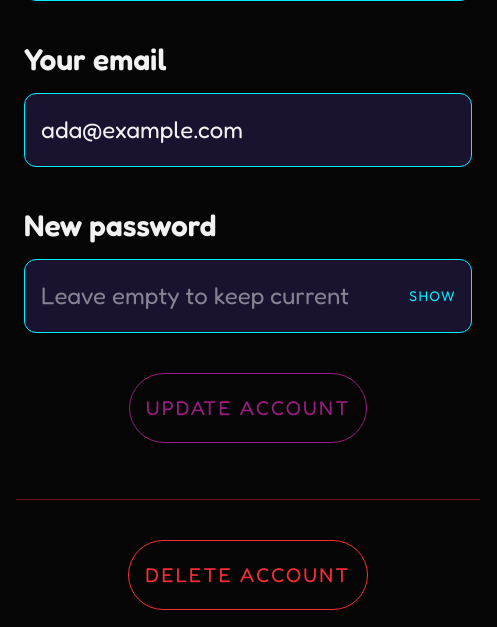
Test: Profile page › deleting the account › shows a message and keeps the session on failure (0)
(page scrolled)
Click the button "Delete account".
click(248, 575)  # box left=128, top=540, right=368, bottom=610
(page scrolled)
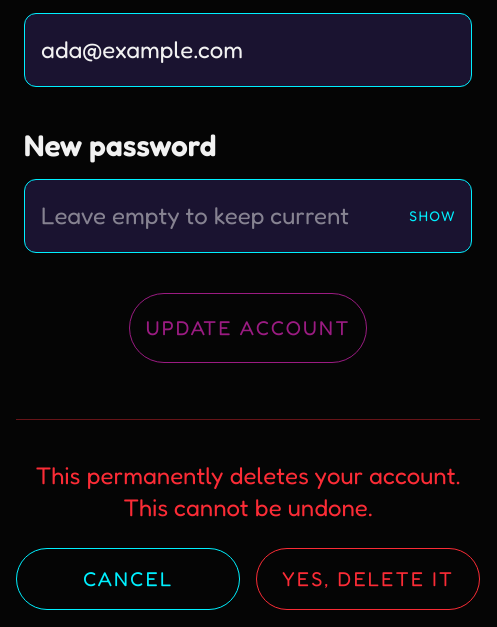
Click the button "Yes, delete it".
click(368, 579)  # box left=256, top=548, right=480, bottom=610
(page scrolled)
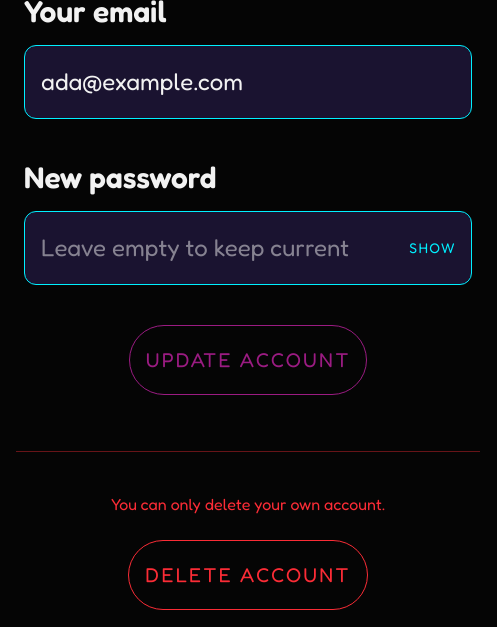
Check: the text "You can only delete your own account." is shown, box left=111, top=494, right=385, bottom=514
Check: the button "Delete account" is shown, box left=128, top=540, right=368, bottom=610
